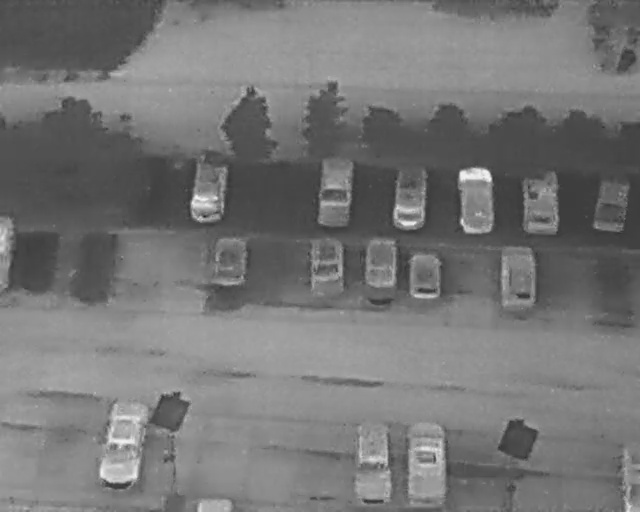Bicycle: (615, 43, 638, 76), (592, 25, 611, 39), (592, 35, 606, 52)
Car: (97, 392, 152, 490), (402, 418, 449, 507), (349, 418, 394, 506), (188, 150, 229, 224), (314, 153, 355, 227), (590, 168, 634, 236), (390, 164, 431, 232), (499, 243, 538, 310), (457, 169, 496, 235), (521, 171, 560, 237), (360, 238, 401, 291), (210, 234, 249, 287), (306, 235, 345, 287), (406, 251, 443, 302), (0, 213, 16, 291), (195, 495, 236, 511)
